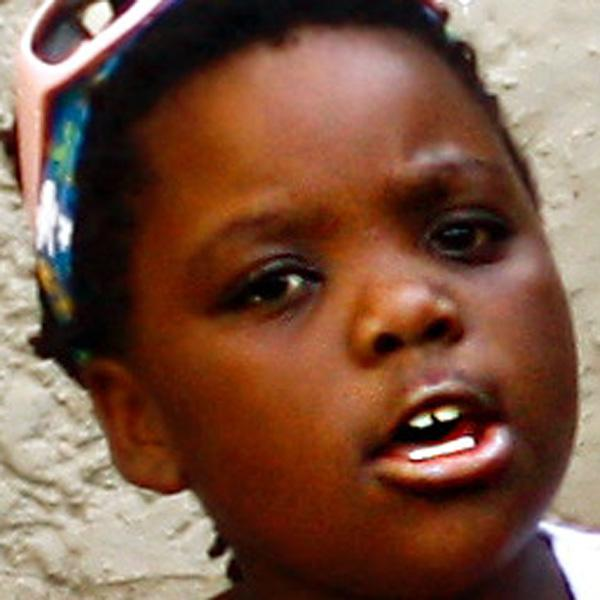Eyes: (215, 237, 333, 328), (411, 195, 517, 269)
